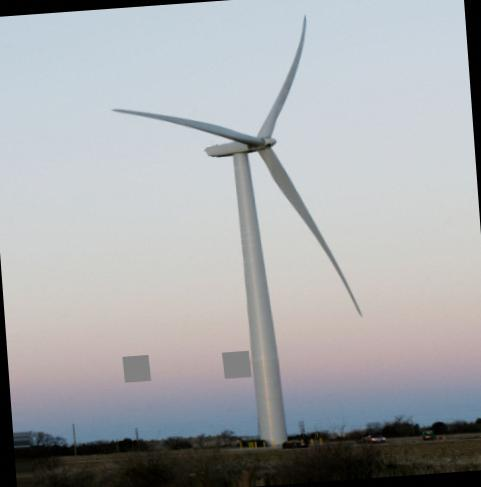wind turbine: (114, 14, 364, 438)
